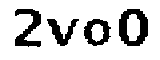0: (117, 4, 154, 49)
2: (9, 6, 45, 49)
o: (82, 16, 113, 47)
v: (46, 13, 78, 47)
